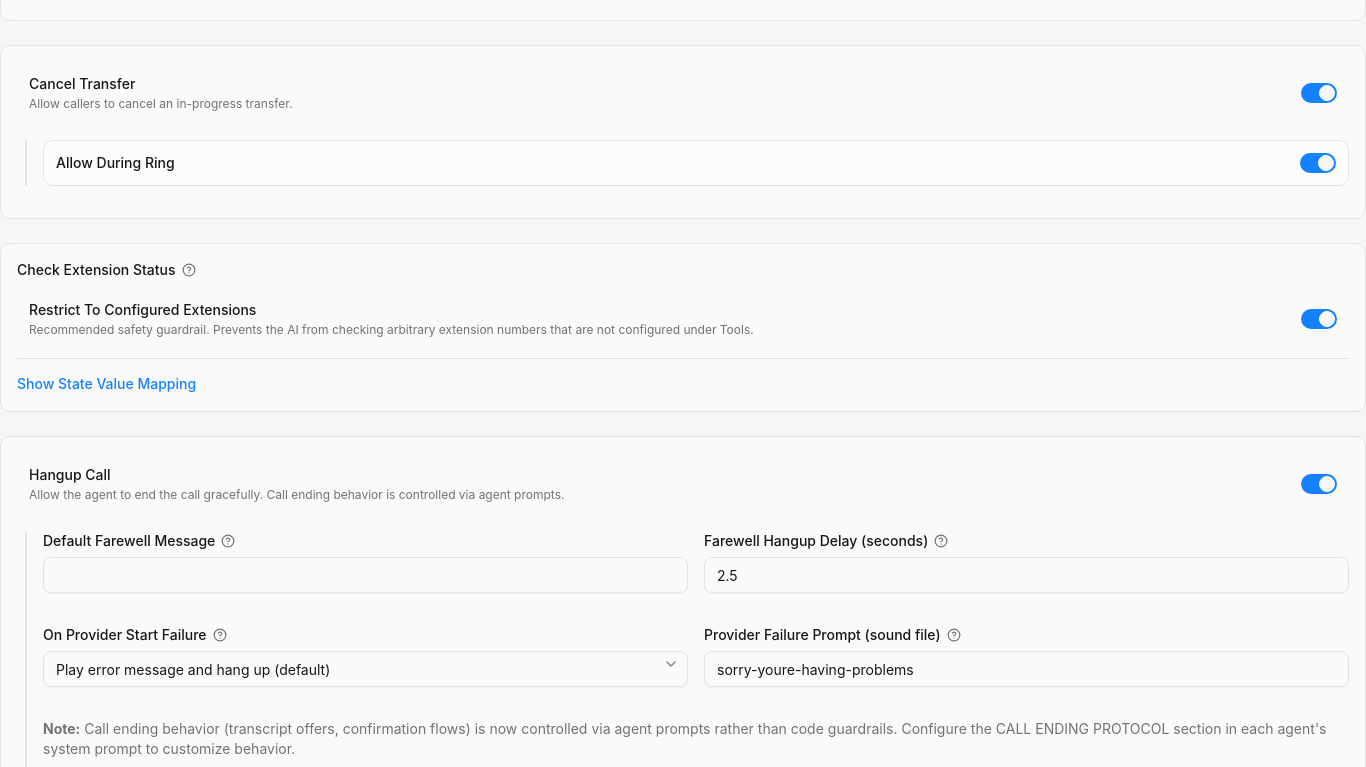
Test case: ToolForm — global device-state value mapping (issue #577) › shows the default buckets in the state value mapping panel
The width and height of the screenshot is (1366, 767).
(page scrolled)
Click the button "Show State Value Mapping". click: coordinates (107, 384)
box: [17,374,196,394]
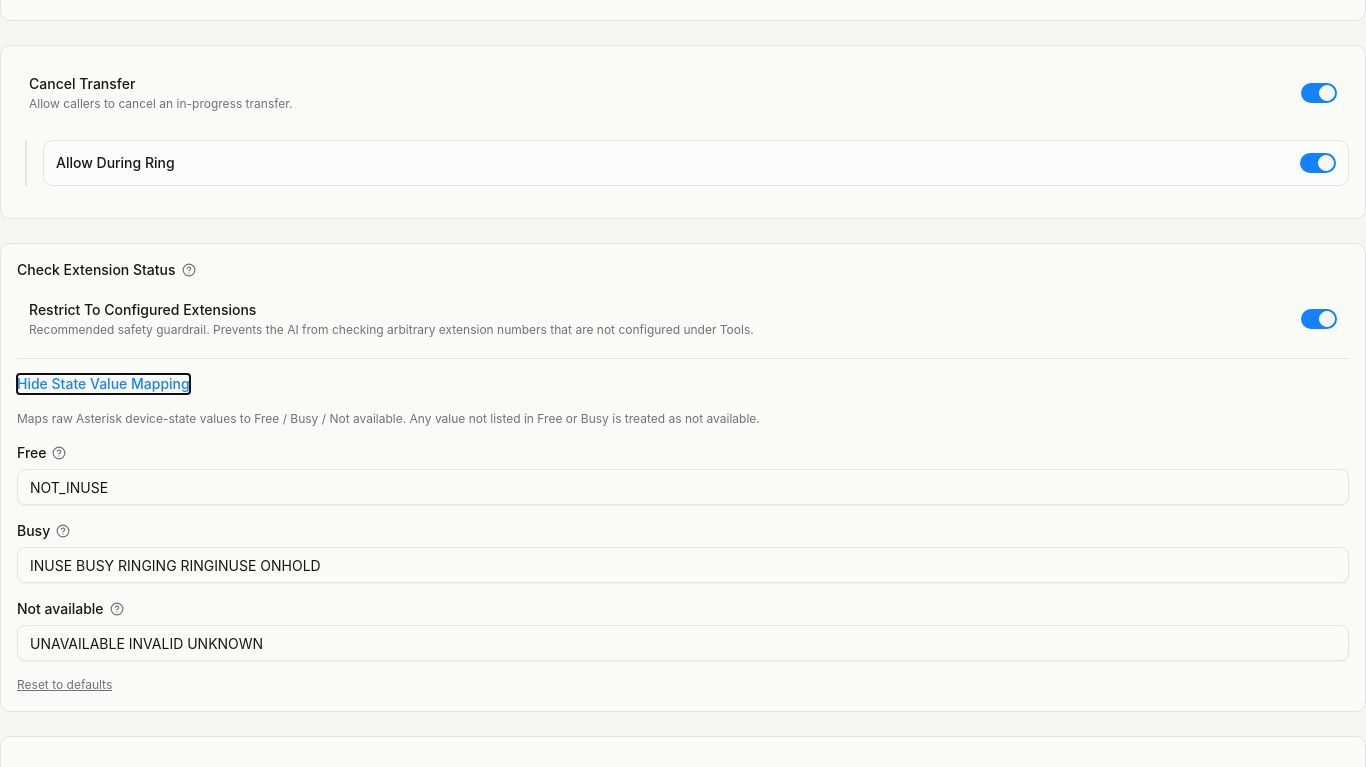
Result: the field labelled "Free" holds "NOT_INUSE" at [17,469,1349,505]
Result: the field labelled "Busy" holds "INUSE BUSY RINGING RINGINUSE ONHOLD" at [17,547,1349,583]
Result: the field labelled "Not available" holds "UNAVAILABLE INVALID UNKNOWN" at [17,625,1349,661]
